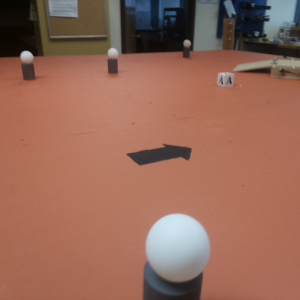obstacle: (141, 212, 222, 300), (21, 49, 36, 82), (105, 47, 123, 74), (181, 40, 193, 58)
side: (275, 63, 300, 78)
slope: (235, 61, 273, 75)
